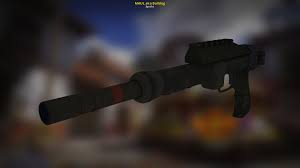Gun: (63, 35, 248, 115)
